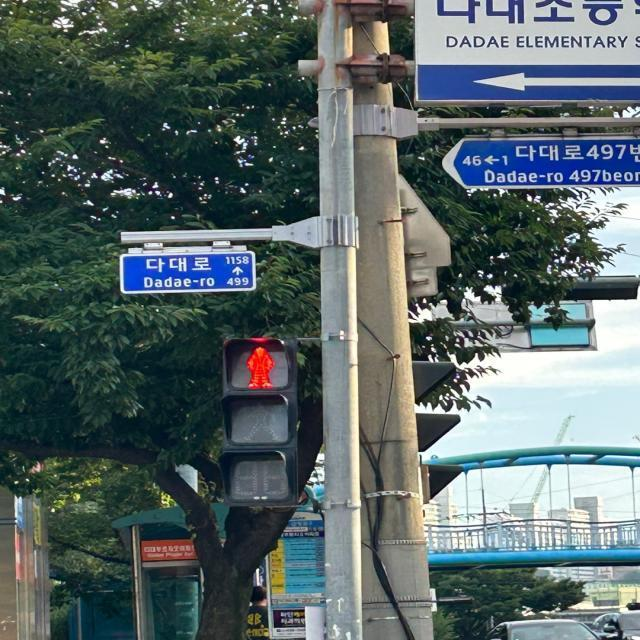red_light: (232, 341, 286, 391)
